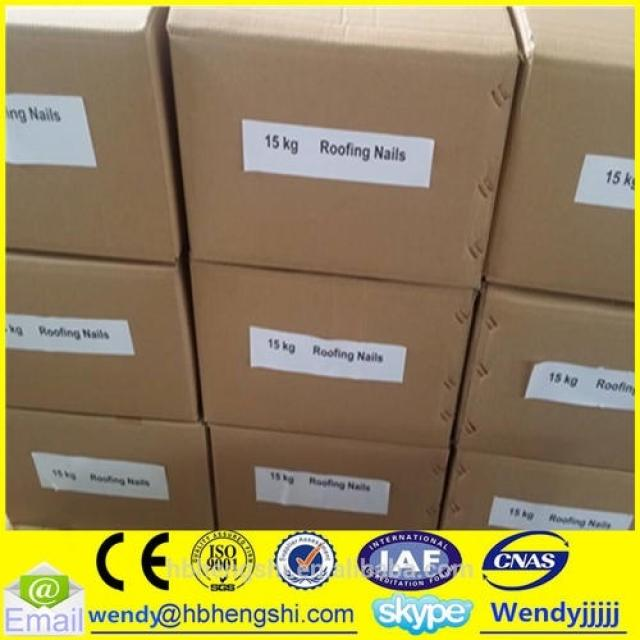box: (166, 9, 517, 292), (189, 257, 475, 448), (481, 6, 636, 303), (6, 4, 184, 261), (5, 246, 201, 422), (454, 284, 635, 474), (5, 407, 215, 532), (211, 428, 448, 530), (442, 449, 636, 530)
